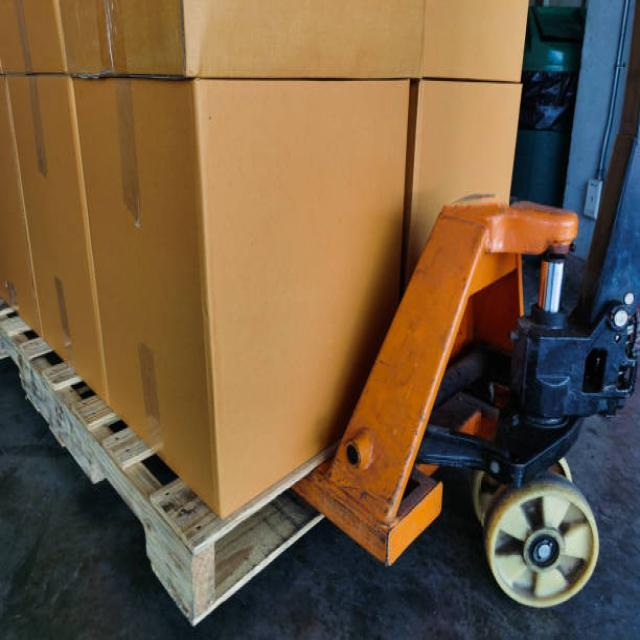Wooden-Pallets: (2, 313, 325, 626)
